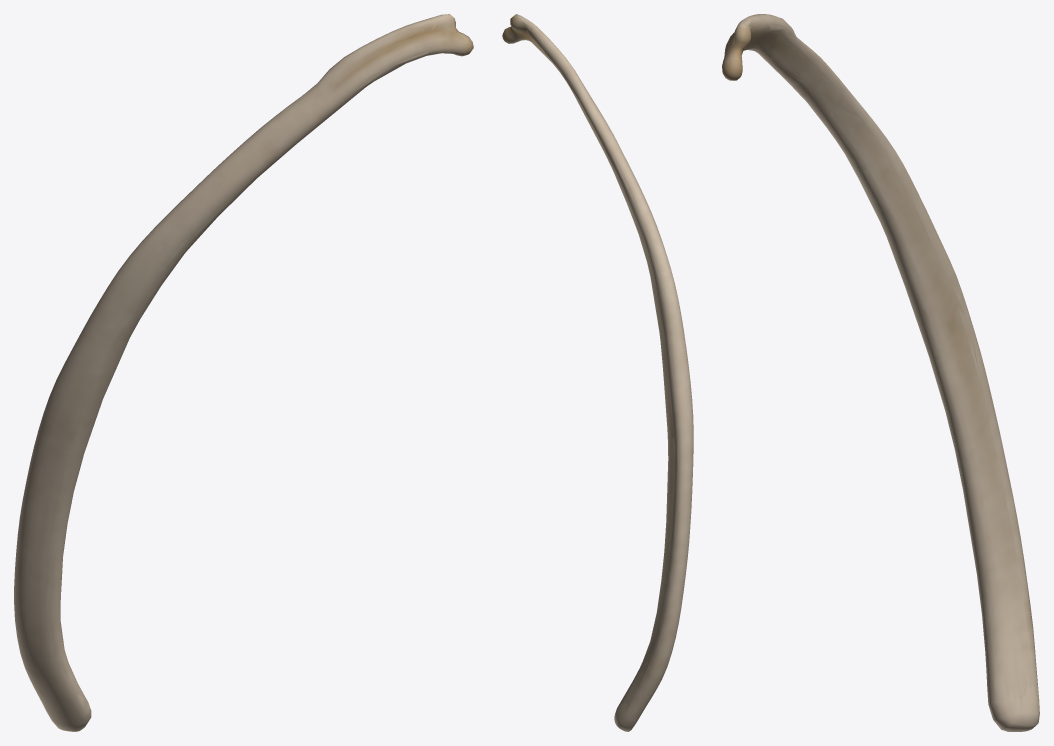
File: Rib R09.fbx
3 views of the same model, side by side, from view 1: azimuth 30°, elevation 25°; view 2: azimuth 150°, elevation 25°; view 3: azimuth 270°, elevation 25° (orthographic). The views are drawn at different scales.
Visible parts, largest first — view 1: Rib R09, Rib R09 low; view 2: Rib R09, Rib R09 low; view 3: Rib R09 low, Rib R09.
Part boxes in pixels (box(x1,y1,x2,y2)): Rib R09: box(14, 14, 473, 731); Rib R09 low: box(15, 14, 472, 731); Rib R09: box(502, 14, 693, 731); Rib R09 low: box(503, 16, 693, 730); Rib R09 low: box(723, 16, 1038, 731); Rib R09: box(722, 14, 1039, 731).
Size of the model in its own units: 22.84 by 47.58 by 16.09.
Materials: 1 (1 with a texture image).
